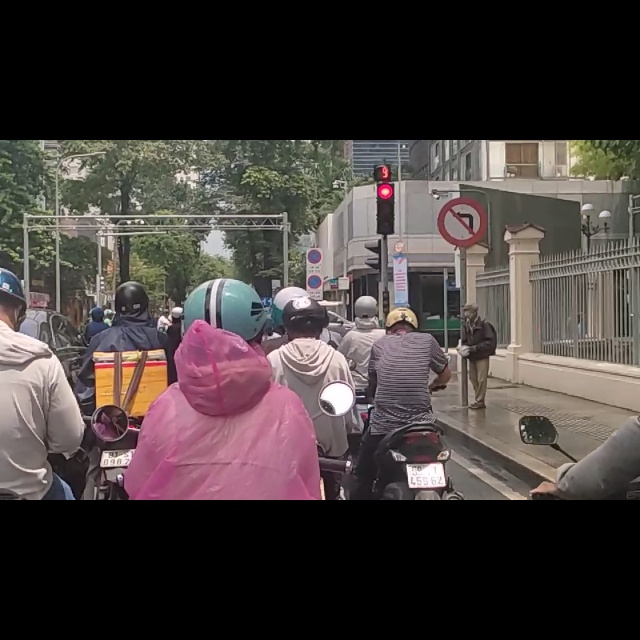bien_cam: (436, 95, 487, 192), (307, 237, 322, 265), (307, 193, 322, 220)
